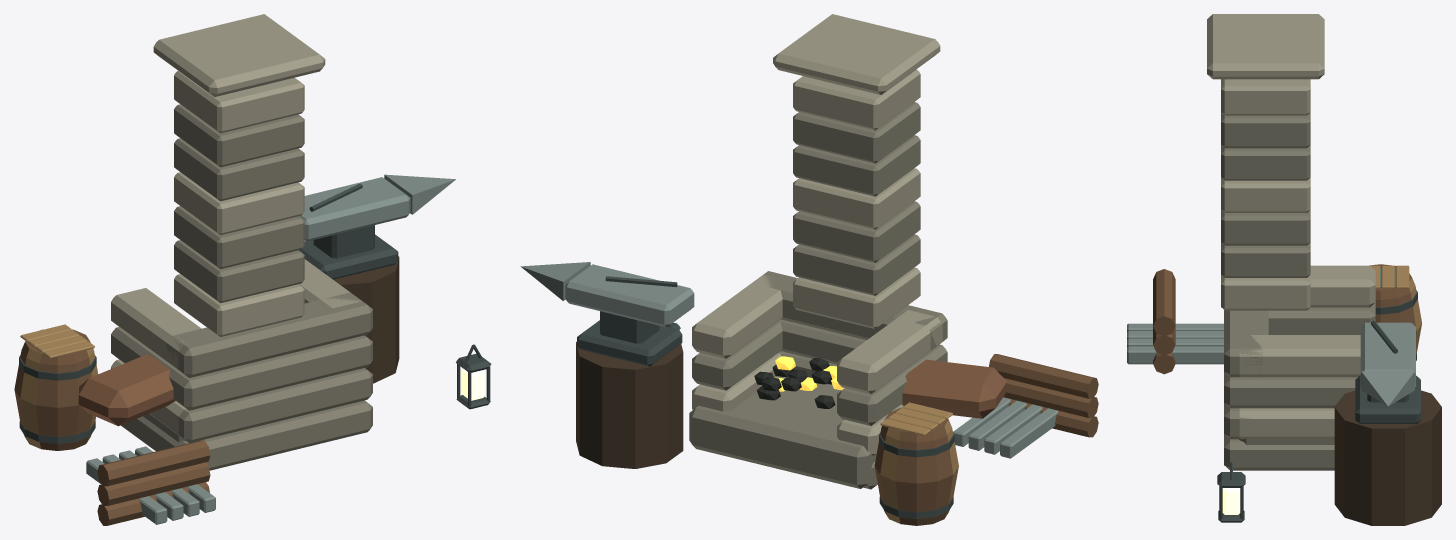
The model's file is Camp_Forge_L2.fbx.
The picture shows the model from 3 angles, left to right: view 1: azimuth 30°, elevation 25°; view 2: azimuth 150°, elevation 25°; view 3: azimuth 270°, elevation 25°; orthographic projection. The views are drawn at different scales.
Visible parts, largest first — view 1: Camp_Forge_L2_Export; view 2: Camp_Forge_L2_Export; view 3: Camp_Forge_L2_Export.
Part boxes in pixels (<box>): Camp_Forge_L2_Export: <box>14,14,491,525</box>; Camp_Forge_L2_Export: <box>520,14,1098,525</box>; Camp_Forge_L2_Export: <box>1127,14,1441,525</box>.
Size of the model in its own units: 3.48 by 2.86 by 2.11.
